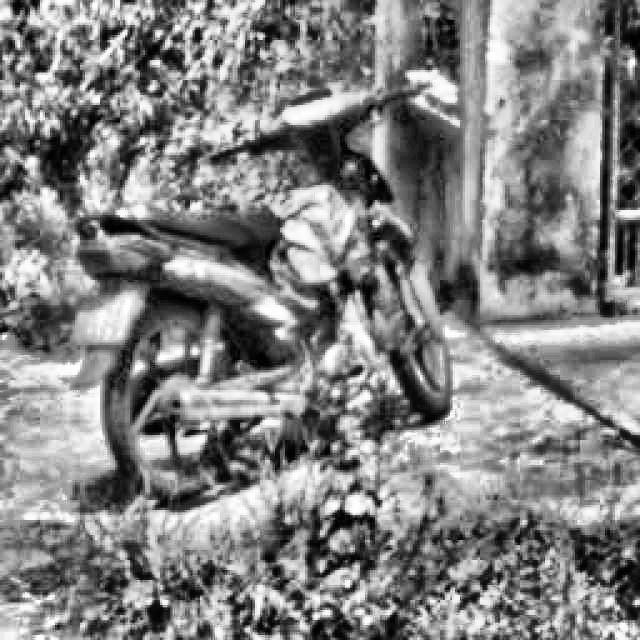motorcycle: (37, 76, 490, 488)
